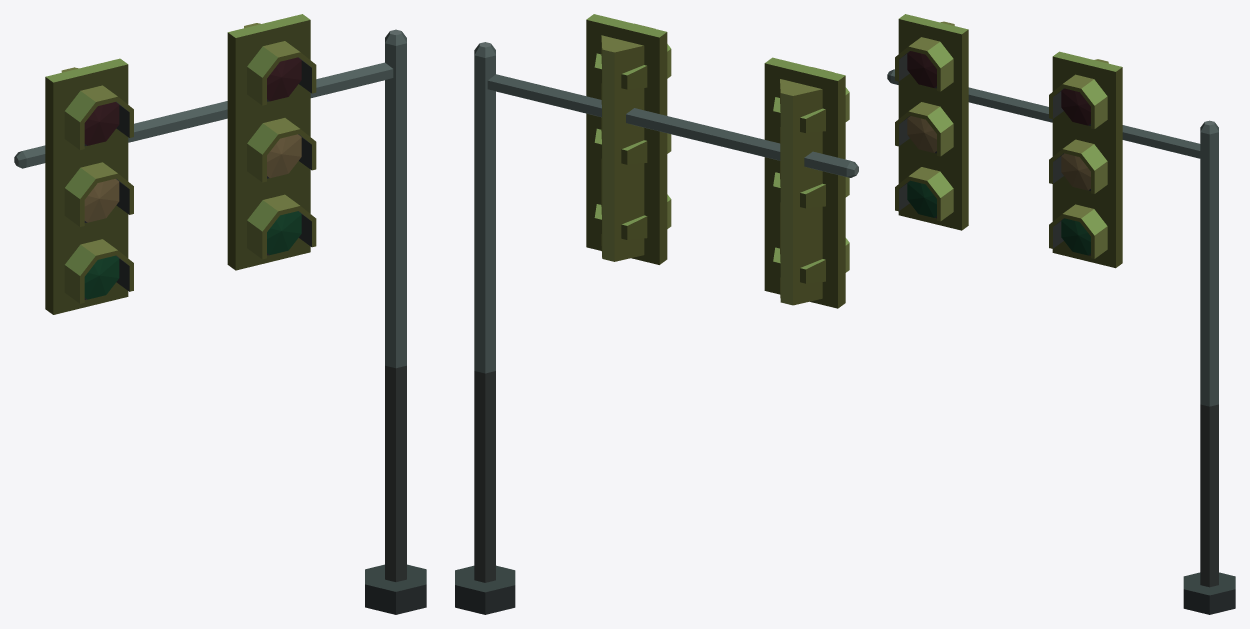
The model's file is TB_CITY_Prop_TrafficLight_HSet_Green.FBX.
3 views of the same model, side by side, from view 1: azimuth 30°, elevation 25°; view 2: azimuth 150°, elevation 25°; view 3: azimuth 330°, elevation 25° (orthographic). The views are drawn at different scales.
Visible parts, largest first — view 1: TB_CITY_Prop_TrafficLight_HSet_Green; view 2: TB_CITY_Prop_TrafficLight_HSet_Green; view 3: TB_CITY_Prop_TrafficLight_HSet_Green.
Part boxes in pixels (bbox=[...]): TB_CITY_Prop_TrafficLight_HSet_Green: bbox=[14, 14, 426, 614]; TB_CITY_Prop_TrafficLight_HSet_Green: bbox=[455, 14, 858, 614]; TB_CITY_Prop_TrafficLight_HSet_Green: bbox=[887, 14, 1235, 614].
Size of the model in its own units: 5.62 by 8.02 by 1.04.
